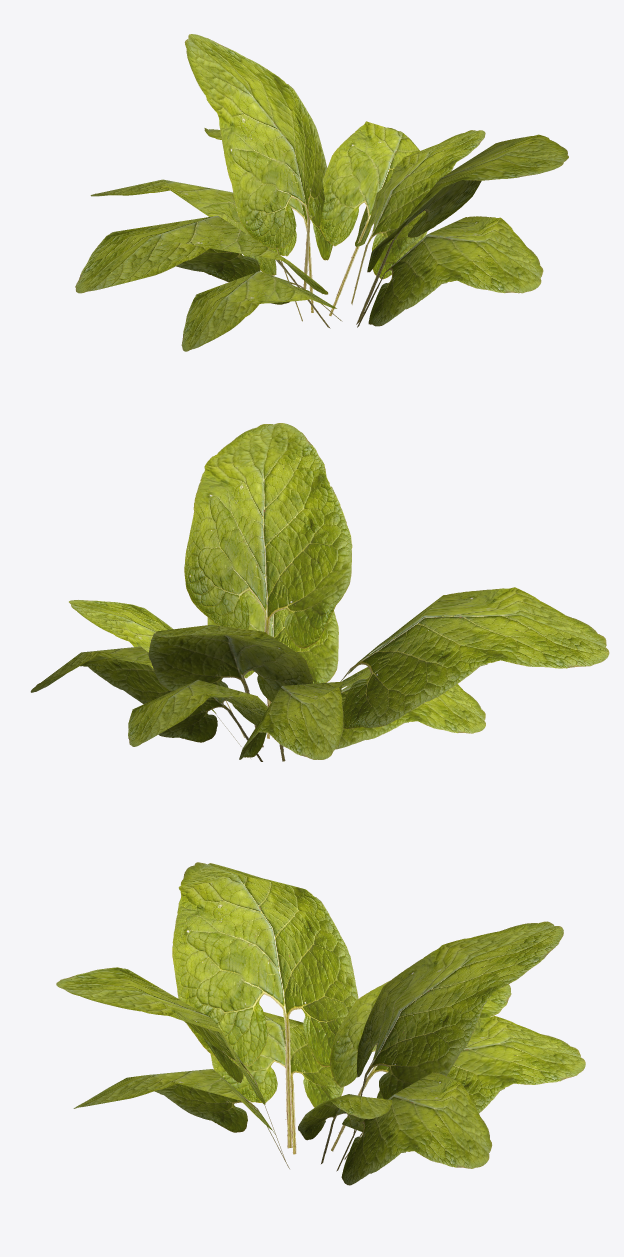
File: lopuh.FBX
3 views of the same model, one above another, from view 1: azimuth 30°, elevation 25°; view 2: azimuth 150°, elevation 25°; view 3: azimuth 270°, elevation 25° (orthographic). The views are drawn at different scales.
Visible parts, largest first — view 1: fern_frono; view 2: fern_frono; view 3: fern_frono.
Part boxes in pixels (x1,y1,x2,y2): fern_frono: [75, 34, 568, 351]; fern_frono: [30, 423, 609, 761]; fern_frono: [56, 862, 585, 1185].
Bounding box in the file's own units: 295 × 145 × 270.
